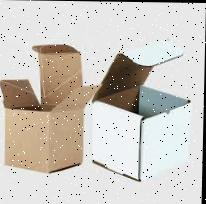cube: (91, 86, 194, 179), (5, 104, 84, 174)
